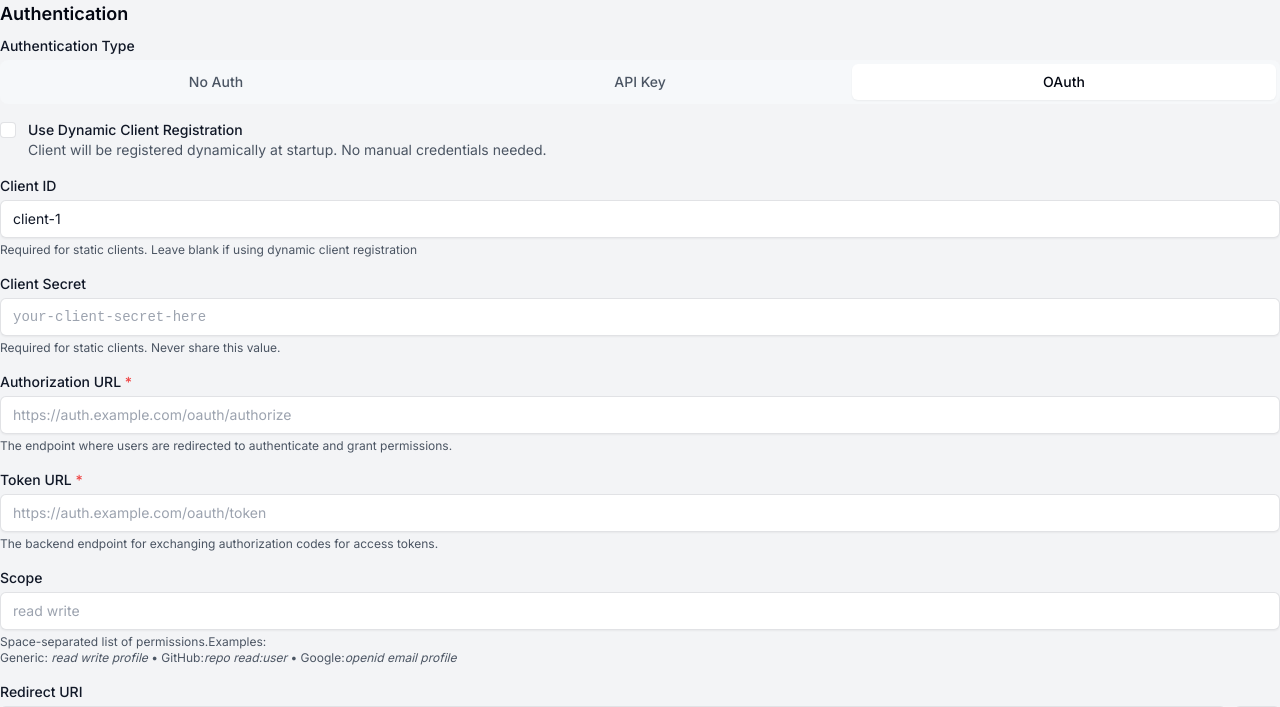
Test: AuthenticationConfig › switching from OAuth to API Key defaults source to admin and header format to bearer
The image size is (1280, 707).
What coordinates should you click on to do the following:
click the button "API Key"
I would click on:
 (640, 82)
Its box is [428,64,852,100].
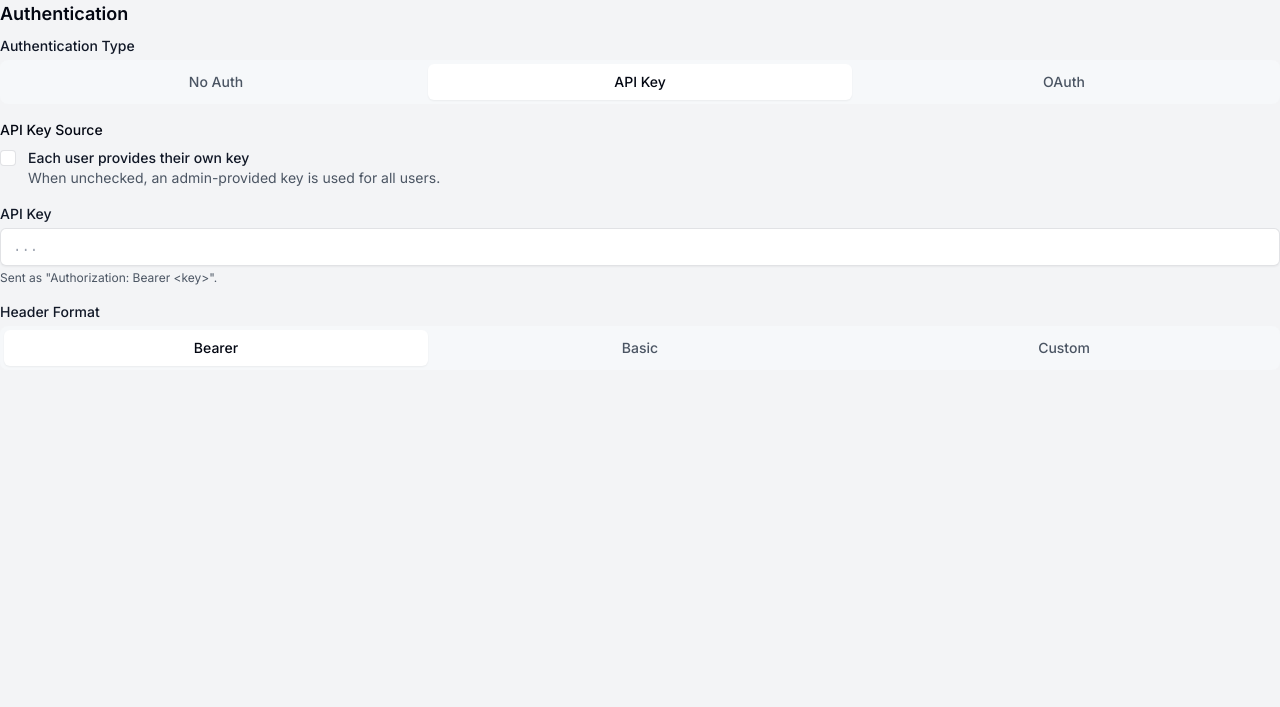
expect the password field with placeholder "..." is shown: met, box [0,228,1279,266]
expect the text "Sent as \"Authorization: Bearer <key>\"." is shown: met, box [0,270,217,285]
